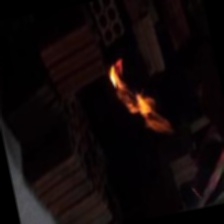fire: (95, 44, 188, 160)
